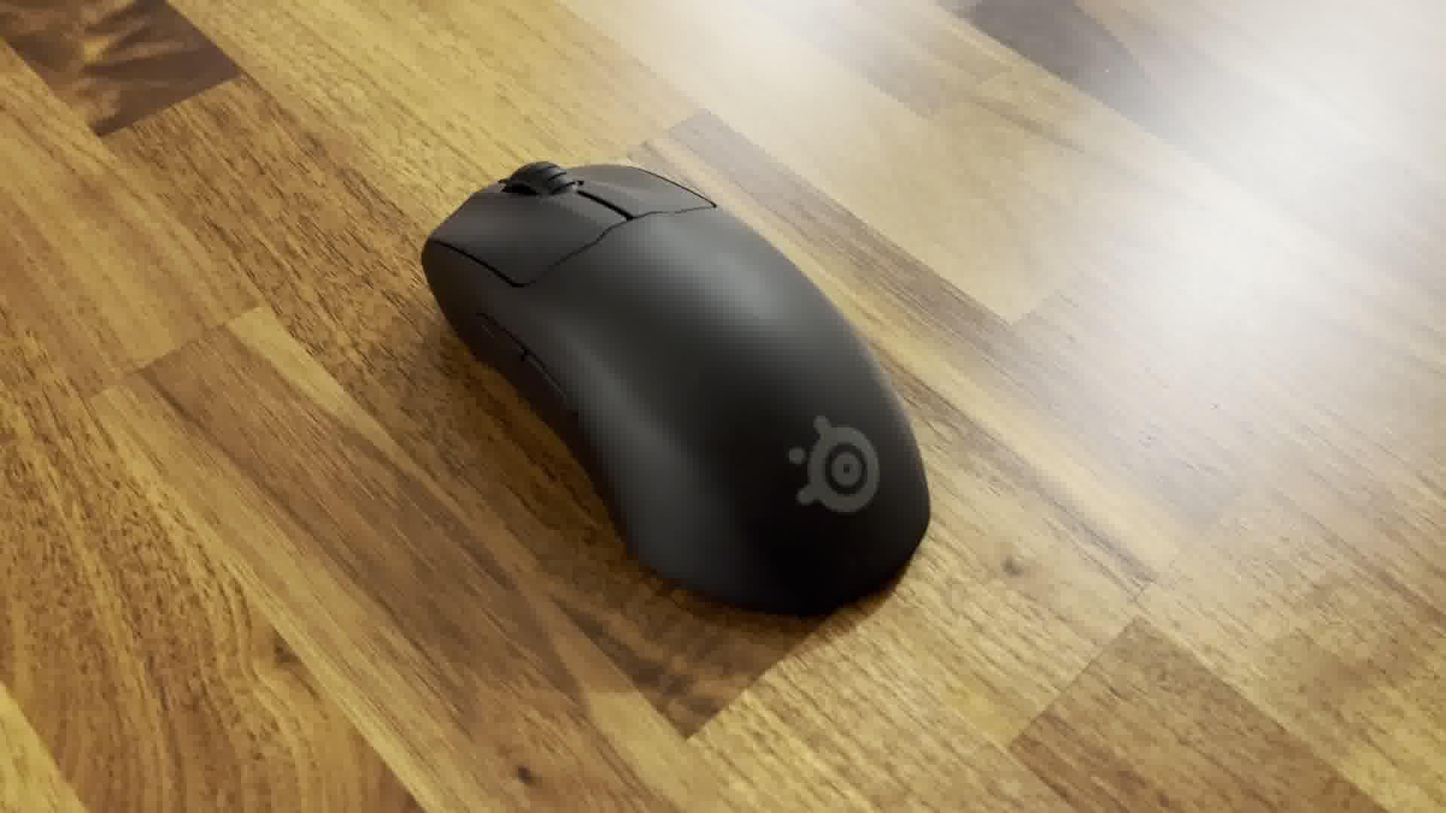steel-series: (416, 154, 939, 627)
